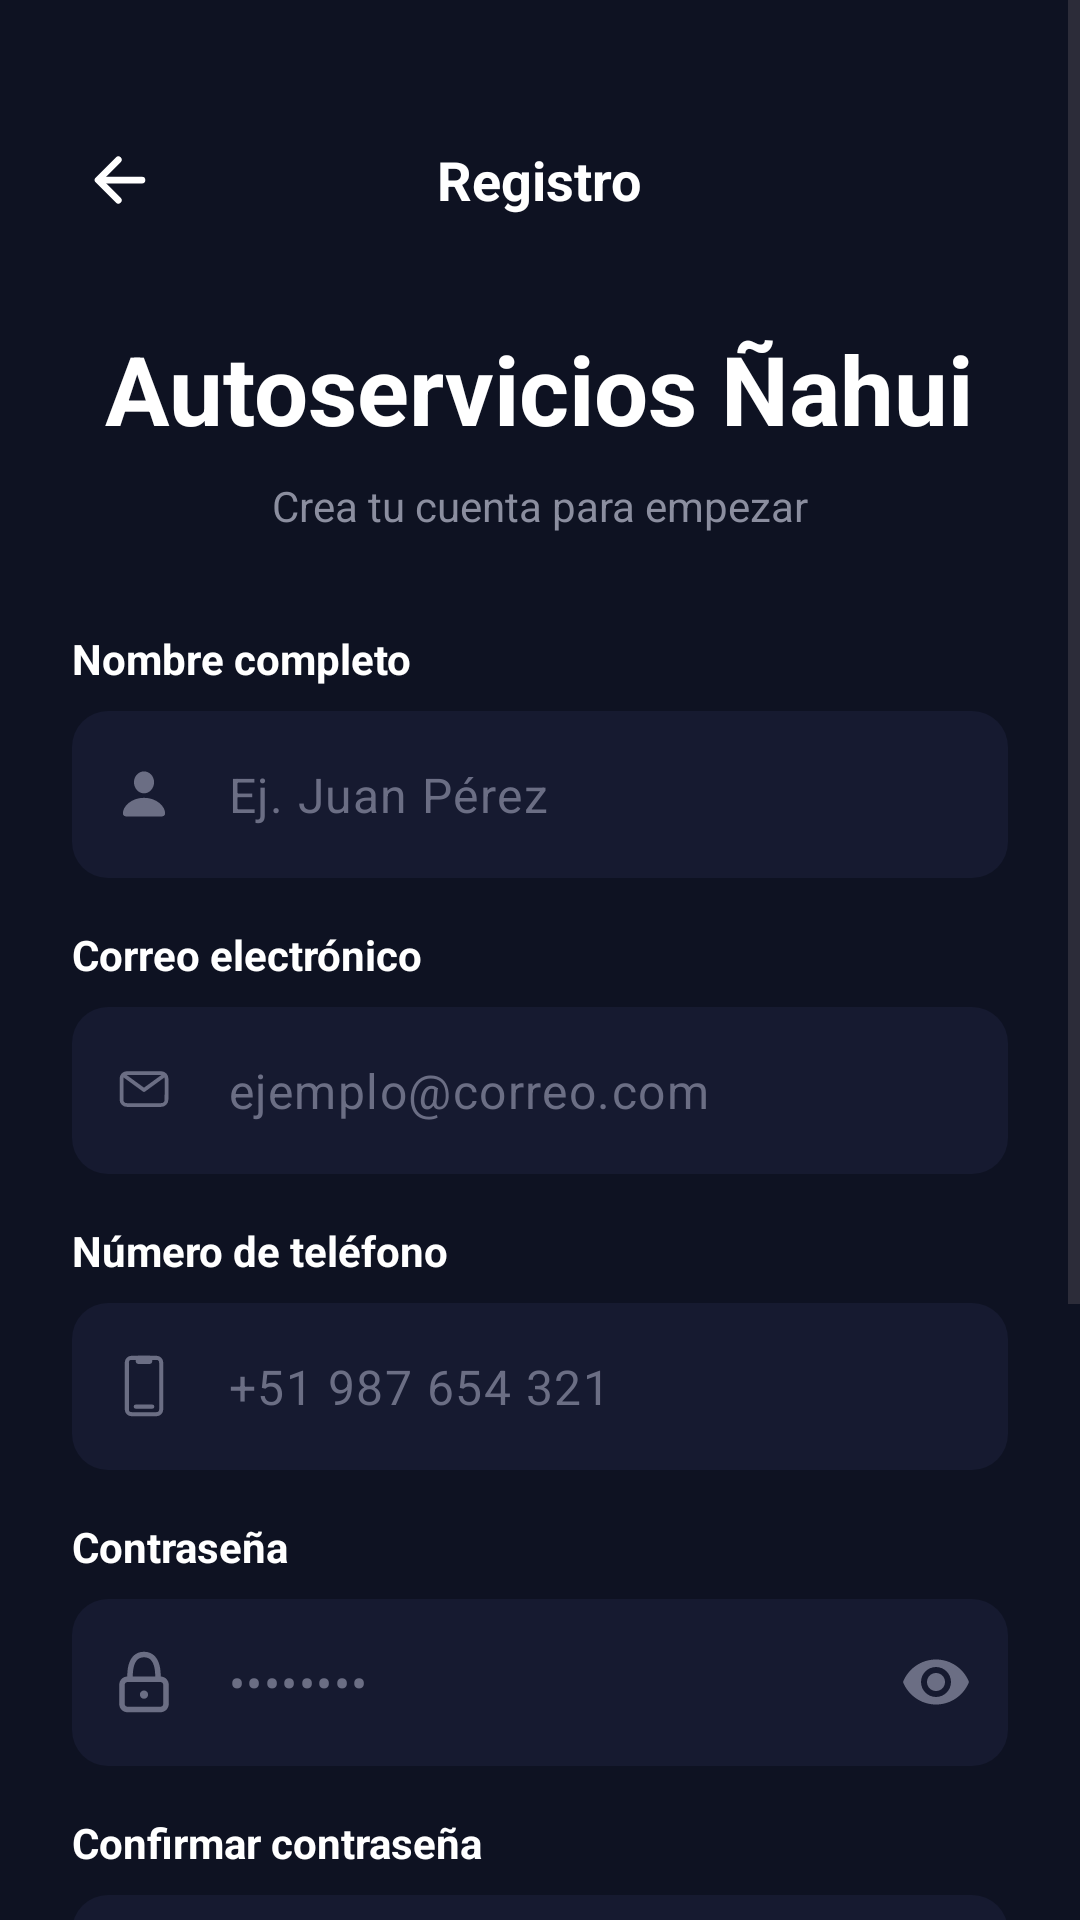

Icons on this 1080px×1920px Android screen, each with the point to tap as [x,y]:
arrow back: [120,180]
